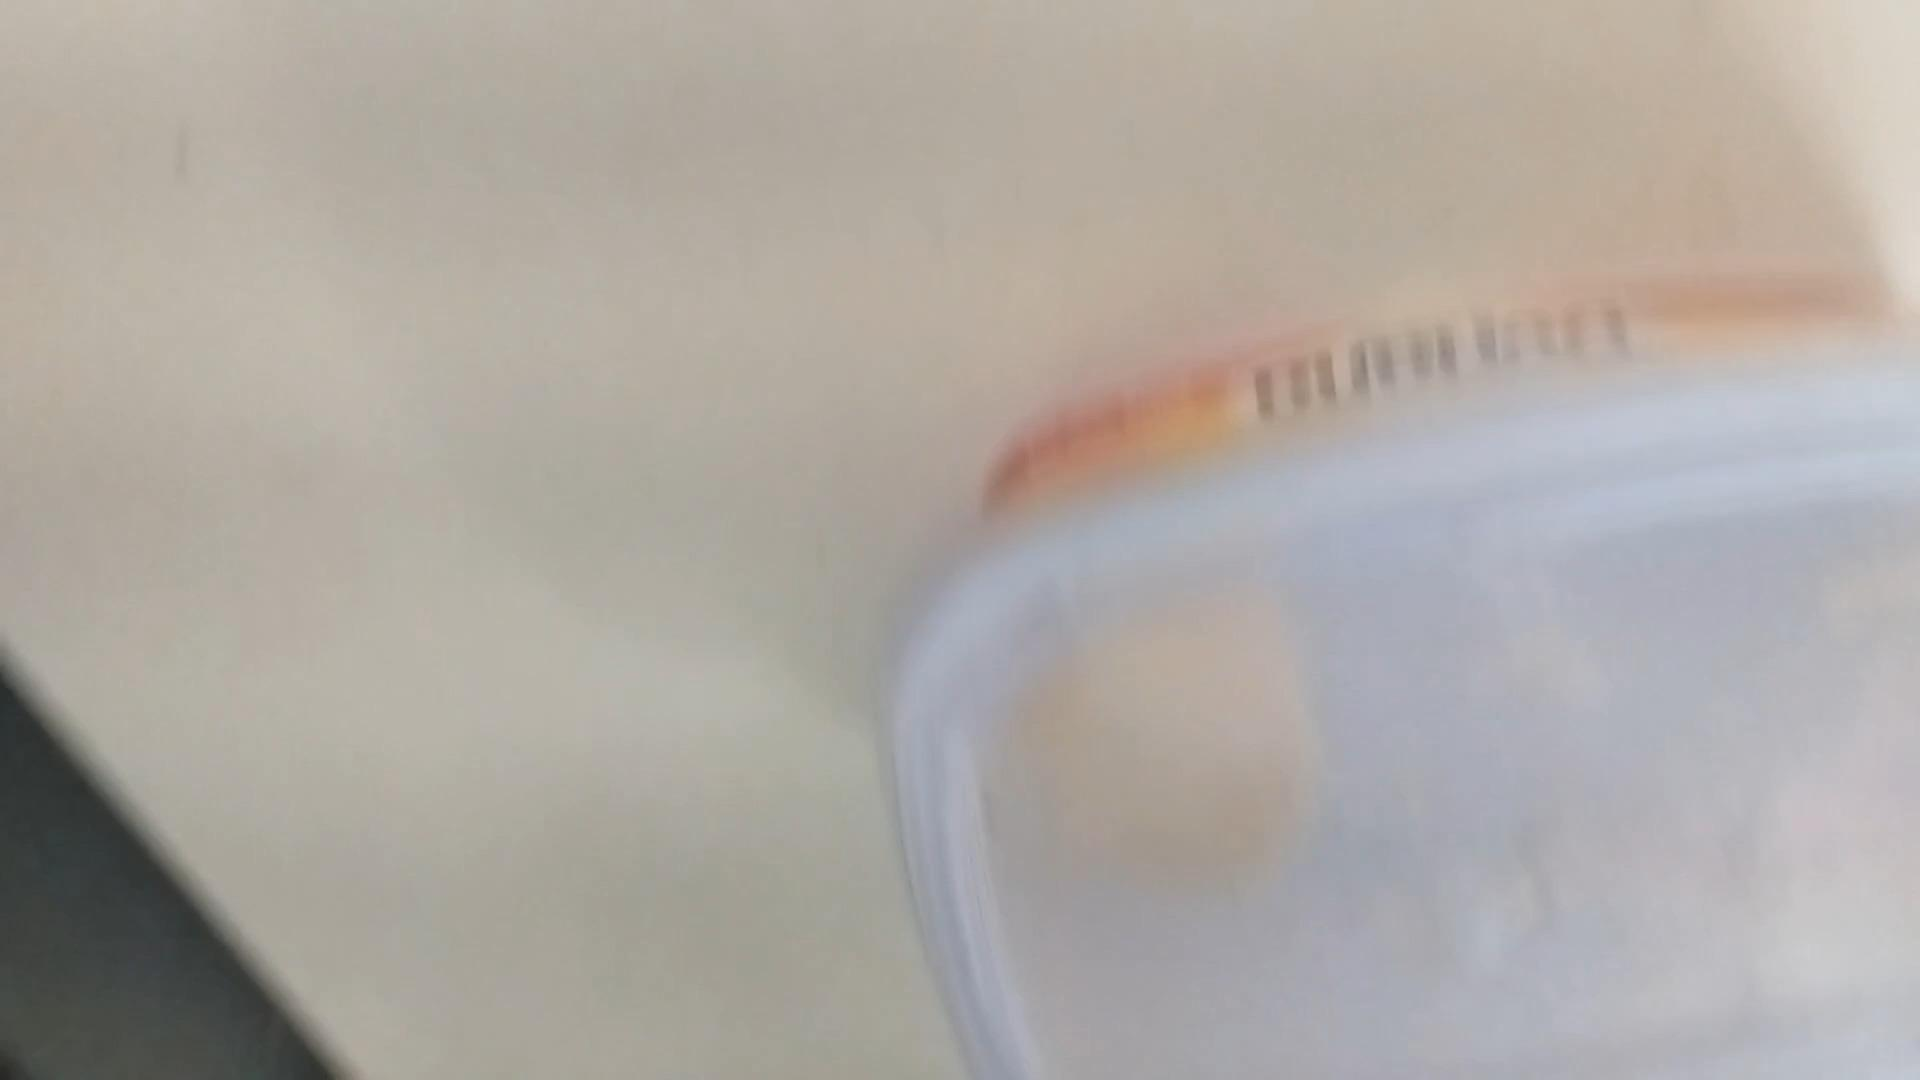butter: (885, 272, 1920, 1080)
